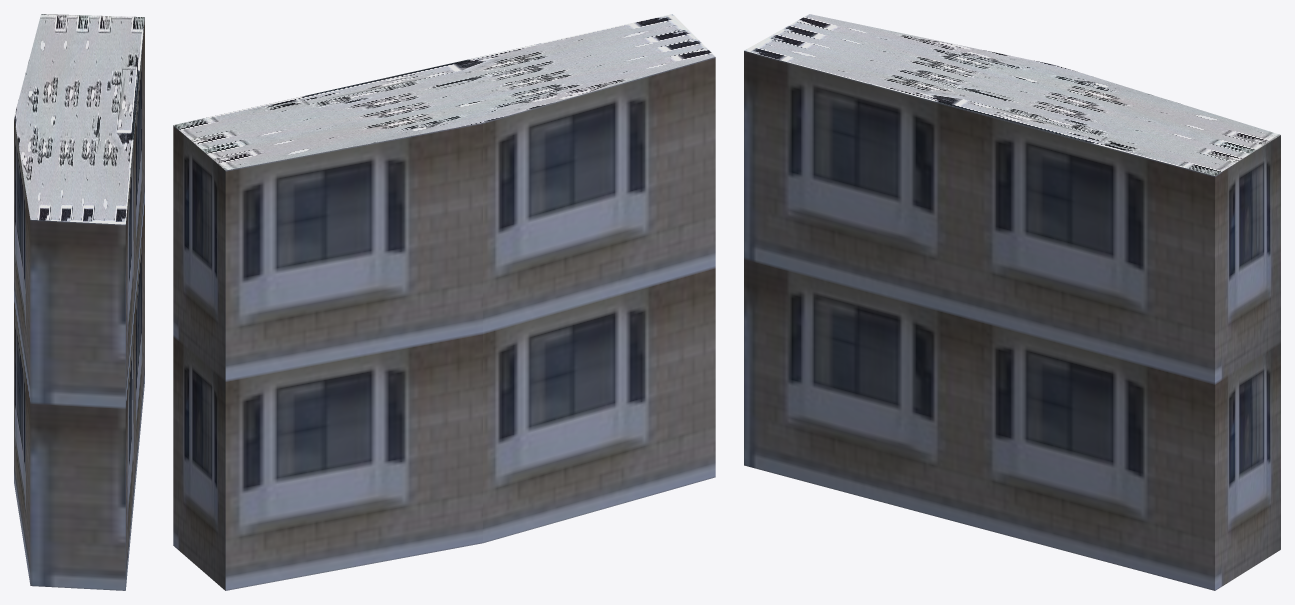
Rendered from ResTex__205.fbx.
The picture shows the model from 3 angles, left to right: view 1: azimuth 30°, elevation 25°; view 2: azimuth 150°, elevation 25°; view 3: azimuth 270°, elevation 25°; orthographic projection. The views are drawn at different scales.
Parts seen in each view (by area): view 1: CityEngineMaterial_3_m, CityEngineMaterial_m; view 2: CityEngineMaterial_3_m, CityEngineMaterial_m; view 3: CityEngineMaterial_3_m, CityEngineMaterial_m.
Part boxes in pixels (x1,y1,x2,y2): CityEngineMaterial_3_m: [14, 18, 144, 590]; CityEngineMaterial_m: [14, 14, 144, 224]; CityEngineMaterial_3_m: [173, 57, 715, 590]; CityEngineMaterial_m: [173, 14, 715, 170]; CityEngineMaterial_3_m: [744, 51, 1280, 590]; CityEngineMaterial_m: [744, 14, 1280, 175].
Bounding box in the file's own units: 5.03 × 6 × 7.04.
2 materials, 2 textured.
